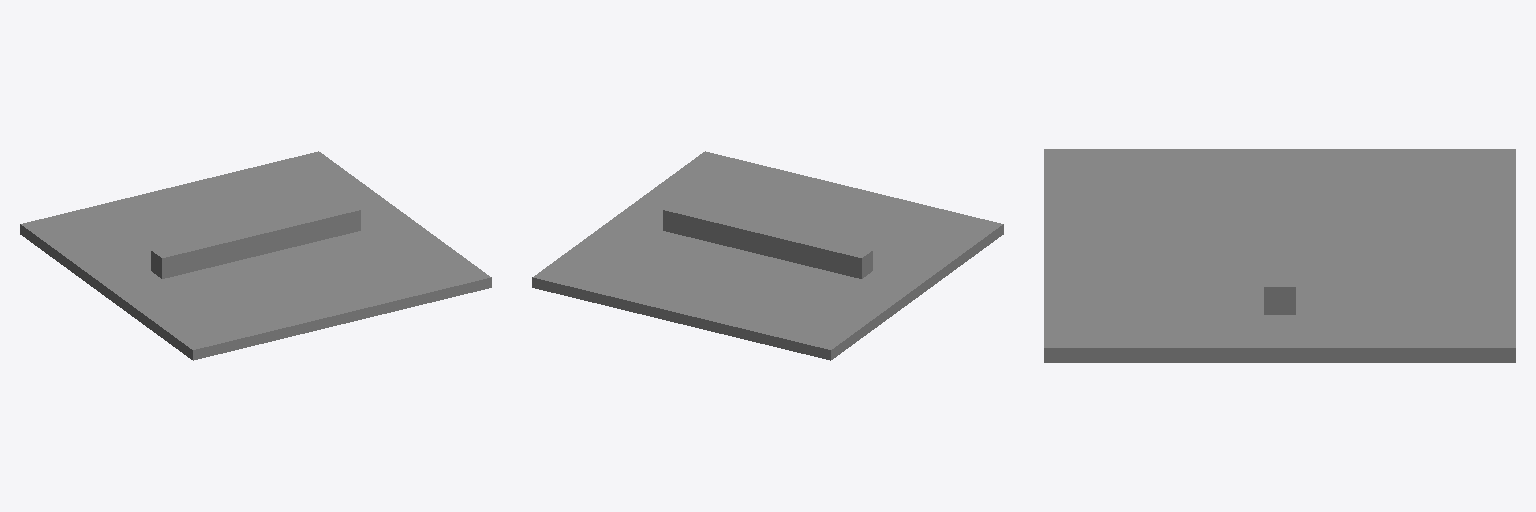
The robot description file, URDF, robot "big_part_robot":
<?xml version="1.0"?>
<robot name="big_part_robot">
  <link name="base_link">
    <visual>
      <origin xyz="0 0 0" rpy="0 0 0"/>
      <geometry>
        <box size="0.3 0.3 0.01"/>
      </geometry>
      <material name="gray">
        <color rgba="0.6 0.6 0.6 1.0"/>
      </material>
    </visual>

    <collision>
      <origin xyz="0 0 0" rpy="0 0 0"/>
      <geometry>
        <box size="0.3 0.3 0.01"/>
      </geometry>
    </collision>

    <inertial>
      <origin xyz="0 0 0" rpy="0 0 0"/>
      <mass value="0.2"/>
      <inertia ixx="0.001" ixy="0.0" ixz="0.0"
               iyy="0.001" iyz="0.0"
               izz="0.001"/>
    </inertial>
  </link>

  <link name="link1">
    <visual>
      <origin xyz="0 0 0" rpy="0 0 0"/>
      <geometry>
        <box size="0.2 0.02 0.02"/>
      </geometry>
      <material name="gray">
        <color rgba="0.6 0.6 0.6 1.0"/>
      </material>
    </visual>

    <collision>
      <origin xyz="0 0 0" rpy="0 0 0"/>
      <geometry>
        <box size="0.2 0.02 0.02"/>
      </geometry>
    </collision>

    <inertial>
      <origin xyz="0 0 0" rpy="0 0 0"/>
      <mass value="0.1"/>
      <inertia ixx="0.001" ixy="0.0" ixz="0.0"
               iyy="0.001" iyz="0.0"
               izz="0.001"/>
    </inertial>
  </link>
  
  <joint name="base_to_link1" type="fixed">
    <!-- The base_link is 0.01m tall, link1 is 0.02m tall -->
    <!-- So we raise it by 0.5*(0.01 + 0.02) = 0.015 to stack flat -->
    <origin xyz="0 0 0.015" rpy="0 0 0"/>
    <parent link="base_link"/>
    <child link="link1"/>
  </joint>
</robot>

--- What the picture shows (computed from the rendered views, not written in the file) ---
The picture shows the robot from 3 angles, left to right: view 1: azimuth 30°, elevation 25°; view 2: azimuth 150°, elevation 25°; view 3: azimuth 270°, elevation 25°; orthographic projection.
Robot: big_part_robot — 2 links, 1 joints (1 fixed); root link base_link; default pose: every joint at zero.
Visible links, largest first — view 1: base_link, link1; view 2: base_link, link1; view 3: base_link, link1.
Boxes of the visible links, x1,y1,x2,y2 form: base_link: (20, 151, 491, 360); link1: (151, 202, 360, 278); base_link: (532, 151, 1003, 360); link1: (663, 202, 872, 278); base_link: (1044, 149, 1515, 362); link1: (1264, 154, 1295, 314).
Size in the robot's own frame: 0.3 by 0.3 by 0.03 metres.
Geometry: primitives only (box / cylinder / sphere), no mesh files.